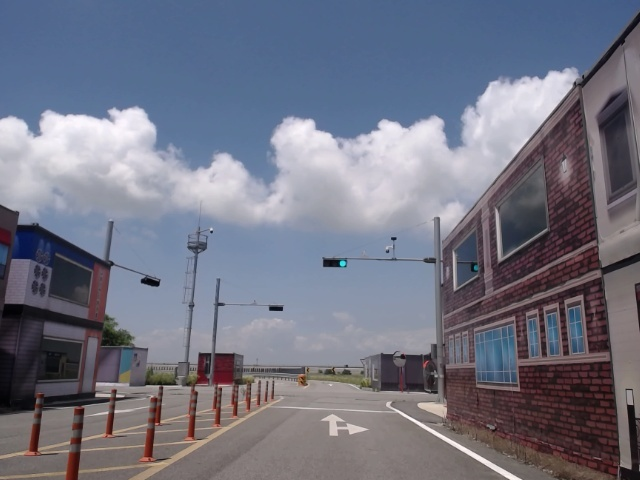green_3: (324, 260, 347, 266)
